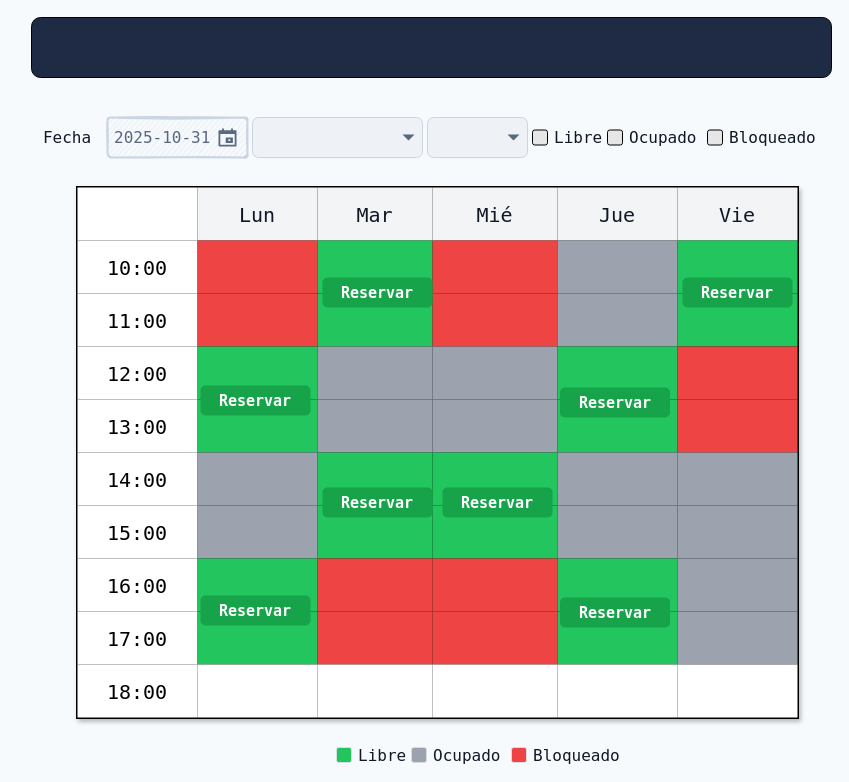
The diagram is 849 pixels wide and 782 high, and some of its shapes have lost their labels. Here are the shapes that lost their labels. From the top down, the centre of each, then its label:
At point (431, 47): "Sistema de Reservas FISI - Disponibilidad".
At point (337, 137): "Tipo de cancha".
At point (477, 137): "Cancha".
